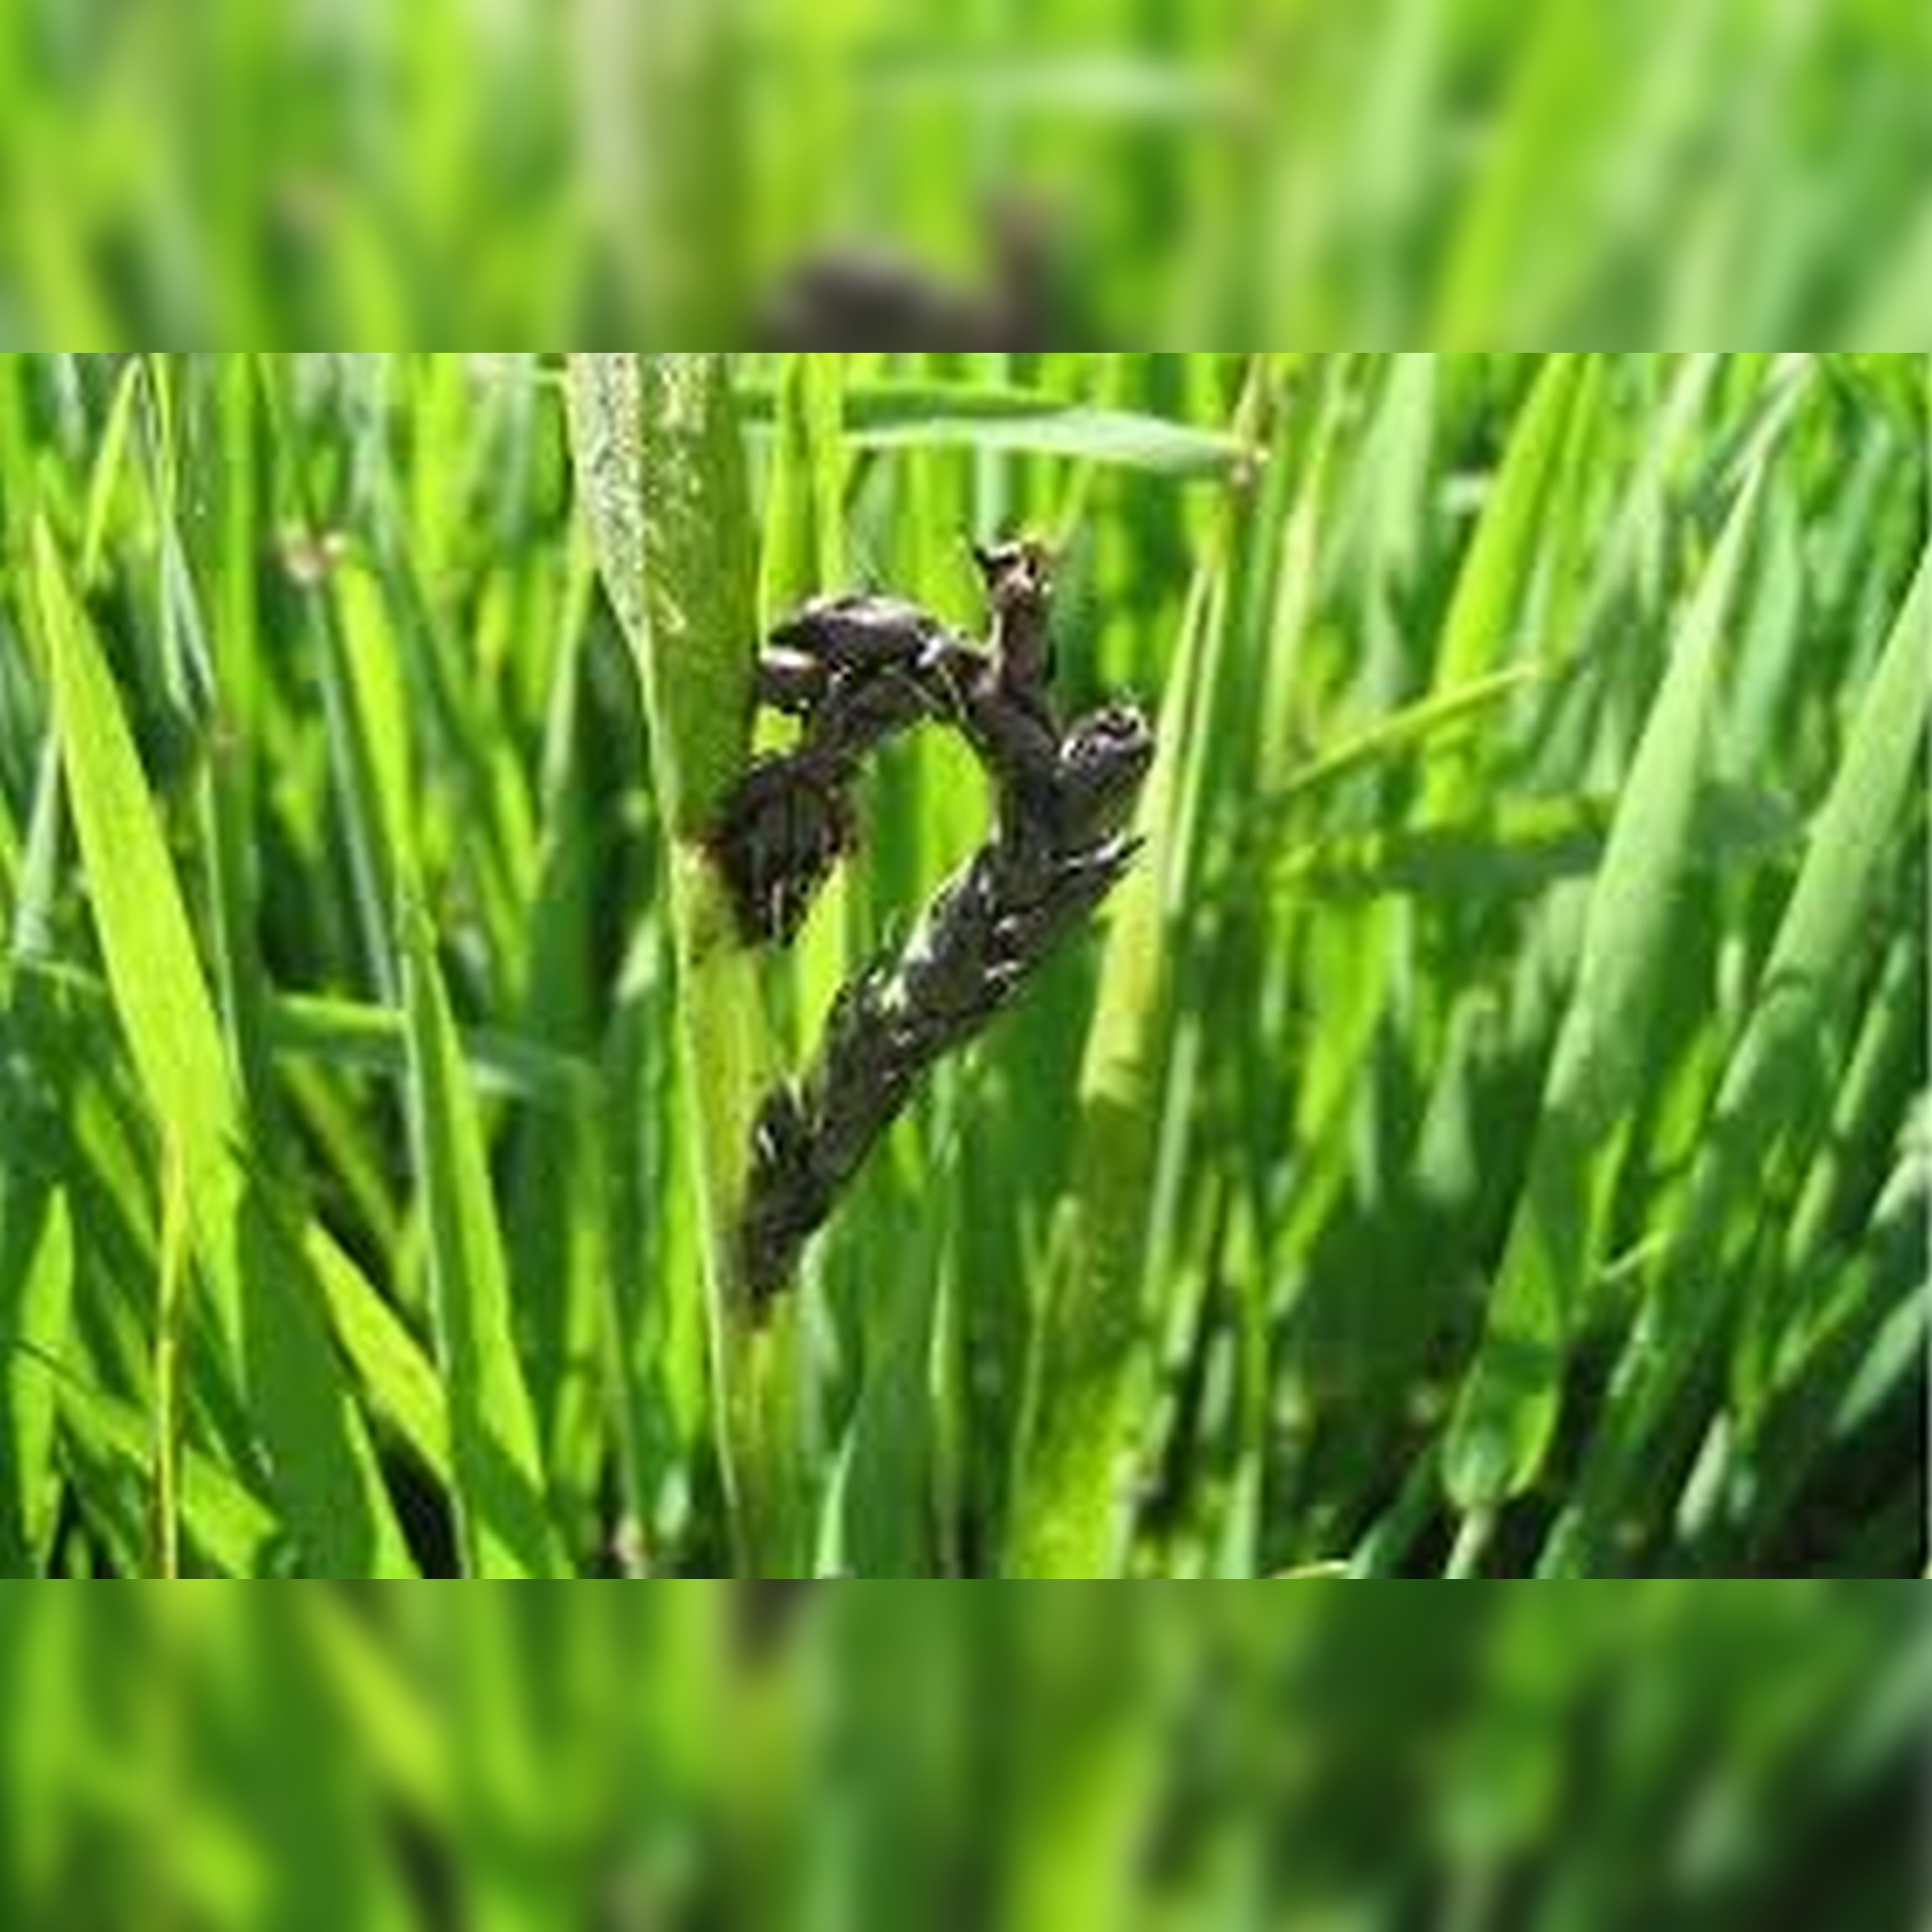Wheat Loose Smut: (674, 525, 1146, 1364)
